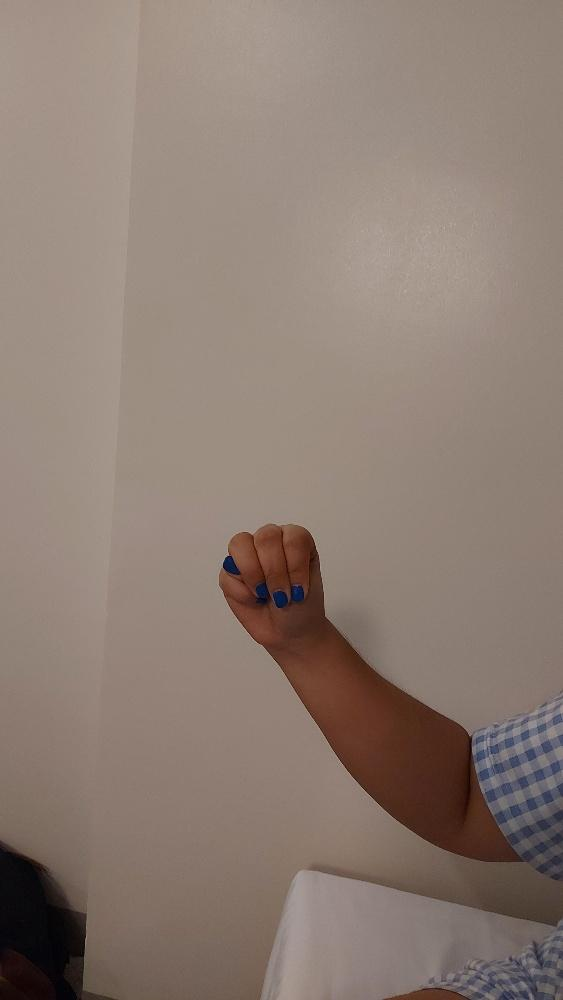m: (215, 519, 327, 647)
